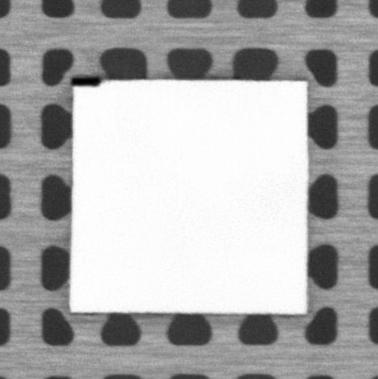DIE_BROKEN: (69, 74, 104, 90)
